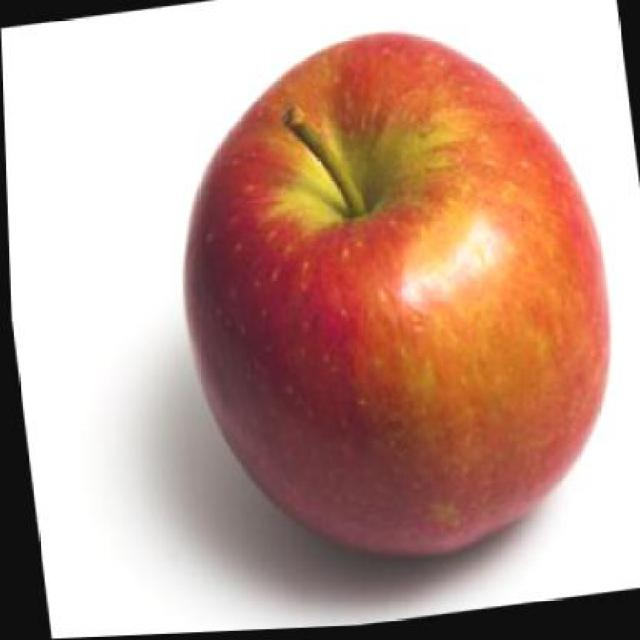Fresh Apple: (178, 24, 607, 571)
